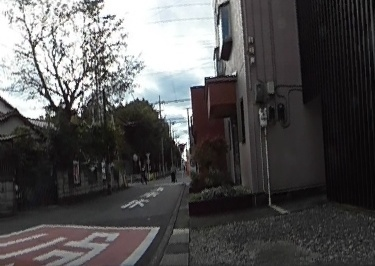person: (137, 156, 147, 181)
